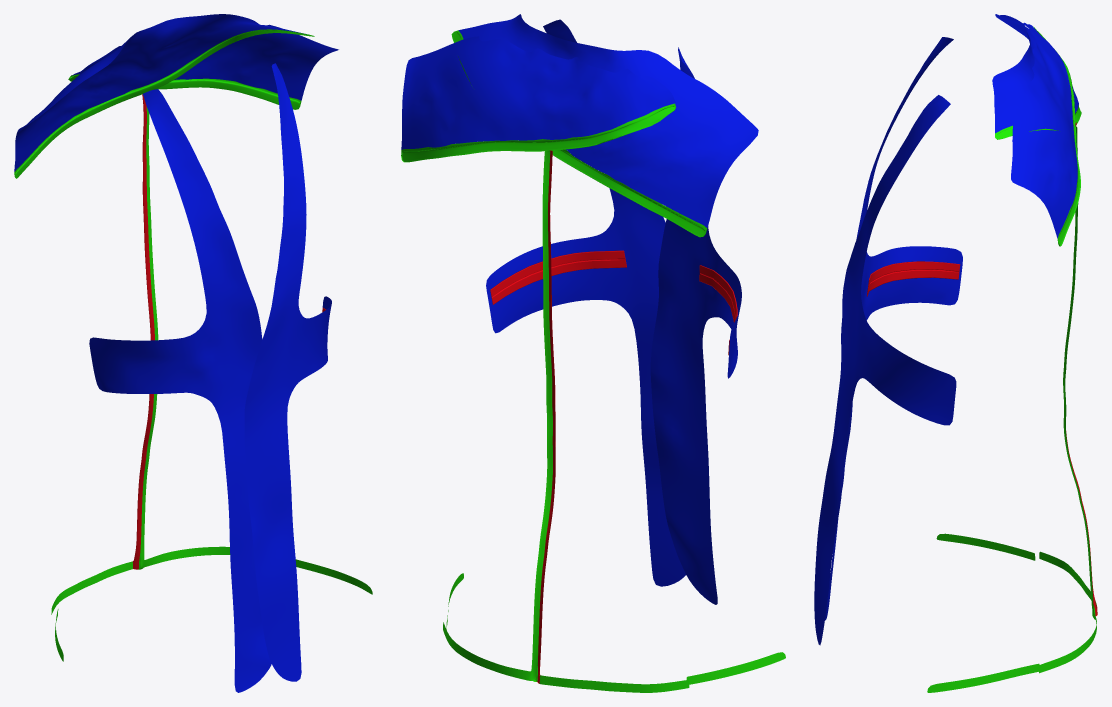
The model's file is unlined_side_vent.glb.
3 views of the same model, side by side, from view 1: azimuth 30°, elevation 25°; view 2: azimuth 150°, elevation 25°; view 3: azimuth 270°, elevation 25° (orthographic). The views are drawn at different scales.
Parts seen in each view (by area): view 1: secondary_02, tertiary_02, primary_02; view 2: secondary_02, tertiary_02, primary_02; view 3: secondary_02, tertiary_02, primary_02.
Part boxes in pixels (<box>): secondary_02: <box>14,14,338,692</box>; tertiary_02: <box>14,29,372,661</box>; primary_02: <box>132,94,325,569</box>; secondary_02: <box>401,14,758,604</box>; tertiary_02: <box>401,30,785,692</box>; primary_02: <box>490,150,737,683</box>; secondary_02: <box>814,14,1078,645</box>; tertiary_02: <box>927,26,1096,692</box>; primary_02: <box>866,122,1097,615</box>.
Size of the model in its own units: 41.22 by 72.64 by 31.39.
